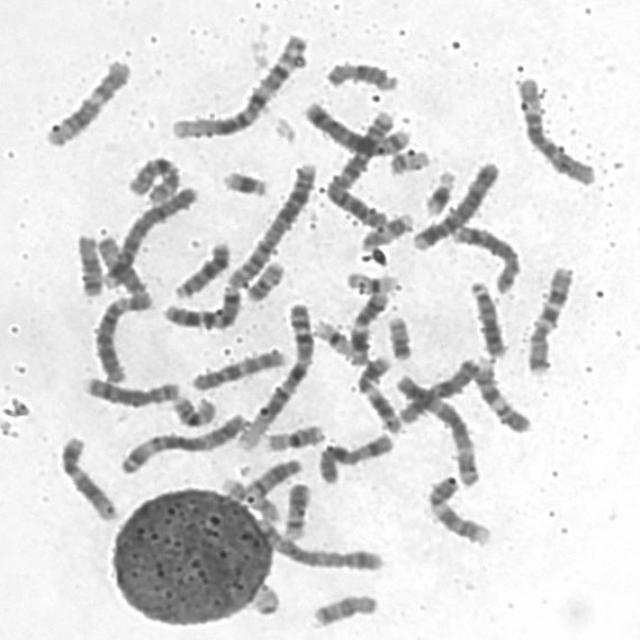A1: (166, 28, 310, 142), (231, 297, 316, 452)
A2: (223, 156, 319, 293), (323, 106, 399, 230)
A3: (392, 370, 482, 488), (115, 408, 252, 477)
B4: (97, 180, 201, 291), (406, 156, 503, 253)
B5: (250, 514, 386, 573), (298, 97, 414, 157)
C10: (185, 343, 290, 394), (122, 150, 182, 204)
C11: (352, 350, 406, 435), (343, 286, 391, 366)
C12: (39, 53, 133, 149), (54, 431, 120, 523)
C6: (512, 70, 599, 187), (88, 290, 154, 384)
C7: (521, 260, 577, 377), (156, 280, 244, 331)
C8: (448, 220, 523, 295), (78, 371, 183, 408)
C9: (421, 470, 495, 548), (468, 352, 534, 436)
D13: (168, 236, 232, 302), (464, 275, 509, 360)
D14: (241, 453, 306, 499), (282, 481, 312, 541)
D15: (91, 230, 154, 312), (321, 56, 402, 94)
E16: (259, 419, 327, 453), (167, 388, 218, 429)
E17: (217, 472, 282, 524), (356, 207, 416, 252)
E18: (306, 588, 380, 630), (71, 228, 104, 299)
F19: (308, 314, 354, 358), (341, 265, 400, 296)
F20: (241, 254, 287, 304), (382, 310, 415, 362)
G21: (419, 164, 459, 218), (216, 164, 271, 198)
G22: (382, 310, 415, 362), (384, 142, 433, 176)
X: (394, 352, 484, 426), (313, 428, 396, 487)
